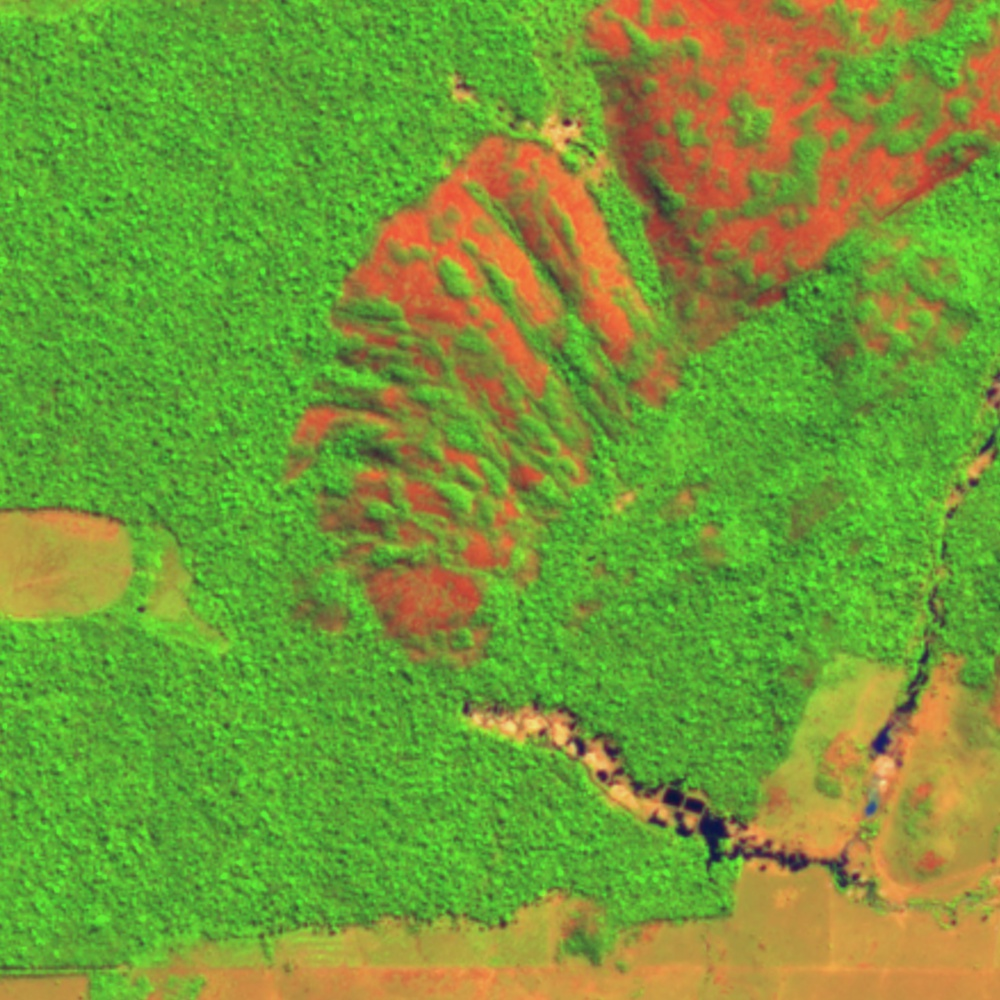legal: (831, 369, 1000, 918), (450, 689, 833, 886), (448, 63, 600, 178)
